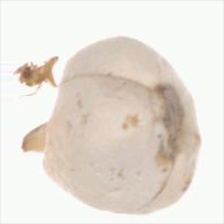L3: (19, 113, 61, 153)
L4: (19, 37, 201, 215)
